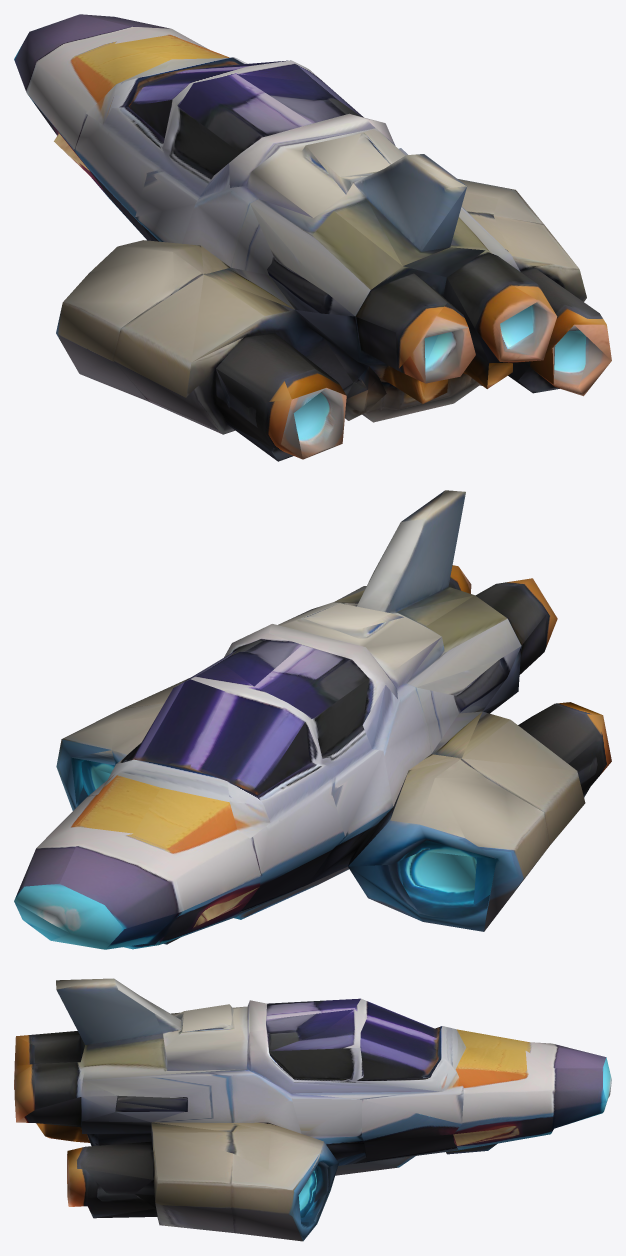
The model's file is spaceship_low.fbx.
The picture shows the model from 3 angles, top to bottom: view 1: azimuth 30°, elevation 25°; view 2: azimuth 150°, elevation 25°; view 3: azimuth 270°, elevation 25°; orthographic projection. The views are drawn at different scales.
Parts seen in each view (by area): view 1: spaceship_low; view 2: spaceship_low; view 3: spaceship_low.
Part boxes in pixels (x1=…): spaceship_low: x1=14, y1=14, x2=611, y2=461; spaceship_low: x1=14, y1=490, x2=611, y2=949; spaceship_low: x1=14, y1=978, x2=611, y2=1241.
Size of the model in its own units: 63.36 by 37.29 by 99.35.
Materials: 1 (1 with a texture image).
